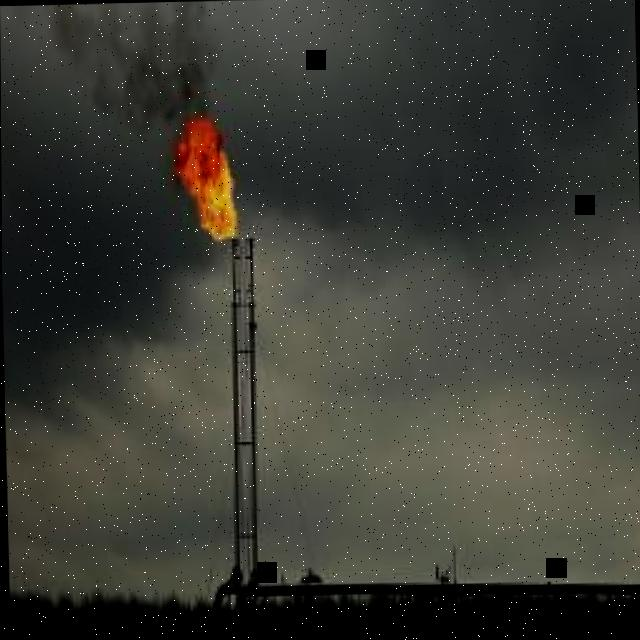fire: (171, 114, 239, 243)
smoke: (49, 2, 216, 131)
